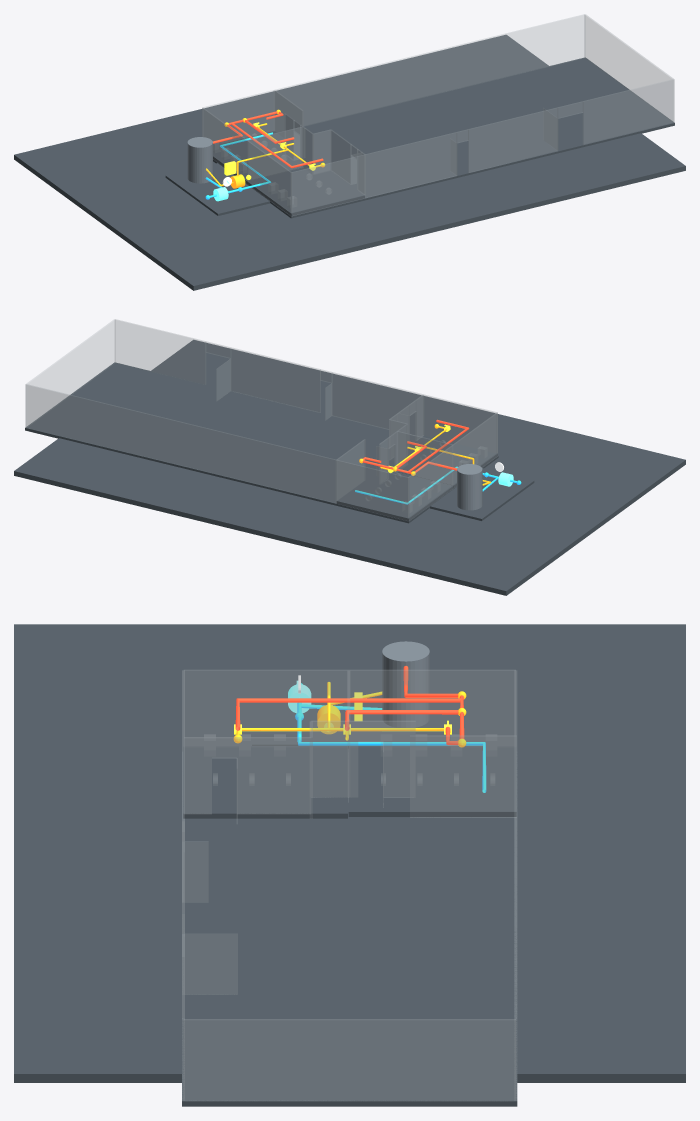
Rendered from T2-system.glb.
The picture shows the model from 3 angles, top to bottom: view 1: azimuth 30°, elevation 25°; view 2: azimuth 150°, elevation 25°; view 3: azimuth 270°, elevation 25°; orthographic projection. The views are drawn at different scales.
Visible parts, largest first — view 1: Presentation_Ground, Envelope_29.62_x_11.98_GLB_export, North_end_GLB_export, South_solid_GLB_export, East_end_GLB_export, South_end_GLB_export, South_solid.001_GLB_export, West_end_GLB_export, F2_women_raised_floor_GLB_export, F2_men_raised_floor_GLB_export, Concept_Equipment_Pad, Wet_gender_split_end_GLB_export (+6 smaller); view 2: Presentation_Ground, Envelope_29.62_x_11.98_GLB_export, North_end_GLB_export, South_solid_GLB_export, East_end_GLB_export, South_end_GLB_export, South_solid.001_GLB_export, West_end_GLB_export, F2_men_raised_floor_GLB_export, F2_women_raised_floor_GLB_export, Wet_gender_split_end_GLB_export, Concept_Equipment_Pad (+5 smaller); view 3: Presentation_Ground, Envelope_29.62_x_11.98_GLB_export, East_end_GLB_export, West_end_GLB_export, F2_women_raised_floor_GLB_export, F2_men_raised_floor_GLB_export, Wet_east_upper_end_GLB_export, Wet_entry_women_solid_GLB_export, Concept_Equipment_Pad, Wet_entry_men_end_GLB_export, Concept_Pressurized_Storage_Tank, South_door.001_GLB_export (+6 smaller).
Boxes of the visible parts, x1,y1,x2,y2 form: Presentation_Ground: (14, 35, 685, 290); Envelope_29.62_x_11.98_GLB_export: (213, 57, 674, 218); North_end_GLB_export: (202, 14, 585, 143); South_solid_GLB_export: (291, 132, 456, 215); East_end_GLB_export: (584, 14, 674, 121); South_end_GLB_export: (583, 79, 673, 144); South_solid.001_GLB_export: (468, 107, 557, 172); West_end_GLB_export: (202, 108, 291, 215); F2_women_raised_floor_GLB_export: (247, 163, 364, 216); F2_men_raised_floor_GLB_export: (213, 131, 318, 183); Concept_Equipment_Pad: (165, 163, 269, 215); Wet_gender_split_end_GLB_export: (247, 127, 303, 179); Presentation_Ground: (14, 340, 685, 595); Envelope_29.62_x_11.98_GLB_export: (25, 362, 498, 523); North_end_GLB_export: (26, 384, 408, 520); South_solid_GLB_export: (332, 372, 497, 452); East_end_GLB_export: (25, 319, 115, 427); South_end_GLB_export: (115, 319, 205, 384); South_solid.001_GLB_export: (231, 347, 320, 412); West_end_GLB_export: (408, 413, 497, 520); F2_men_raised_floor_GLB_export: (336, 468, 453, 521); F2_women_raised_floor_GLB_export: (380, 435, 497, 487); Wet_gender_split_end_GLB_export: (397, 431, 452, 484); Concept_Equipment_Pad: (430, 468, 534, 520); Presentation_Ground: (14, 624, 685, 1082); Envelope_29.62_x_11.98_GLB_export: (182, 751, 517, 1106); East_end_GLB_export: (184, 1019, 515, 1100); West_end_GLB_export: (184, 670, 515, 746); F2_women_raised_floor_GLB_export: (183, 746, 347, 818); F2_men_raised_floor_GLB_export: (348, 746, 516, 816); Wet_east_upper_end_GLB_export: (410, 735, 516, 817); Wet_entry_women_solid_GLB_export: (237, 737, 310, 813); Concept_Equipment_Pad: (252, 697, 447, 748); Wet_entry_men_end_GLB_export: (311, 721, 357, 797); Concept_Pressurized_Storage_Tank: (382, 641, 429, 727); South_door.001_GLB_export: (185, 934, 237, 994).
Size of the model in its own units: 40.62 by 3.7 by 24.
